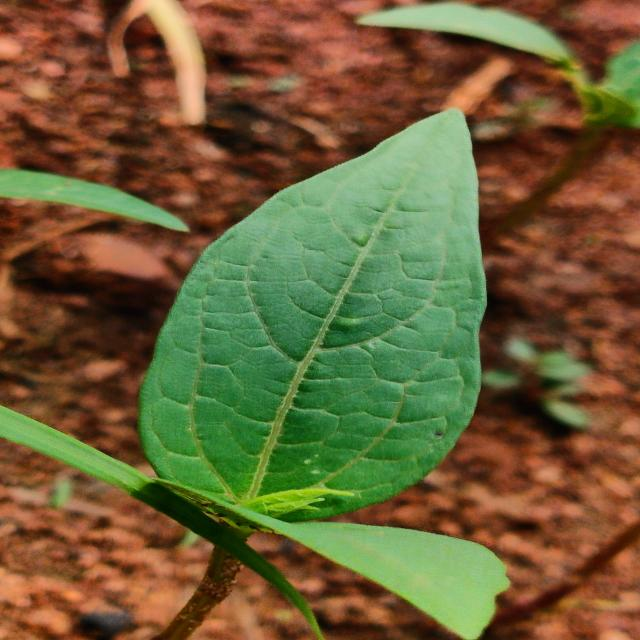Black gram_healthy: (142, 110, 485, 509)
